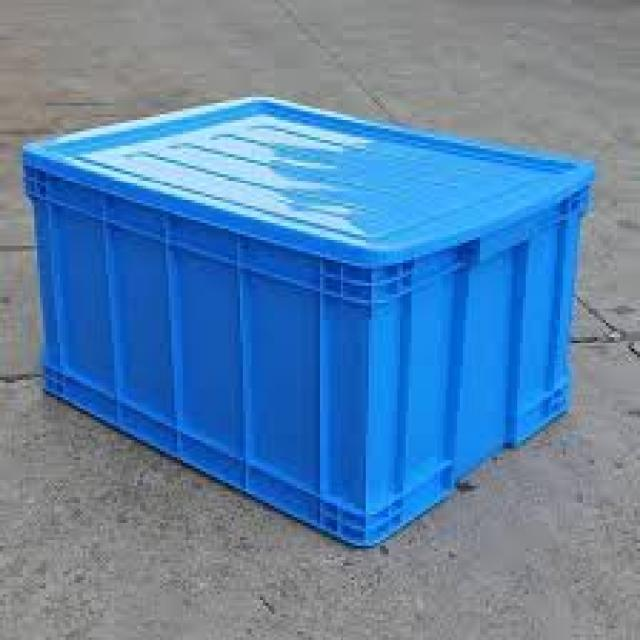basket: (0, 48, 624, 582)
